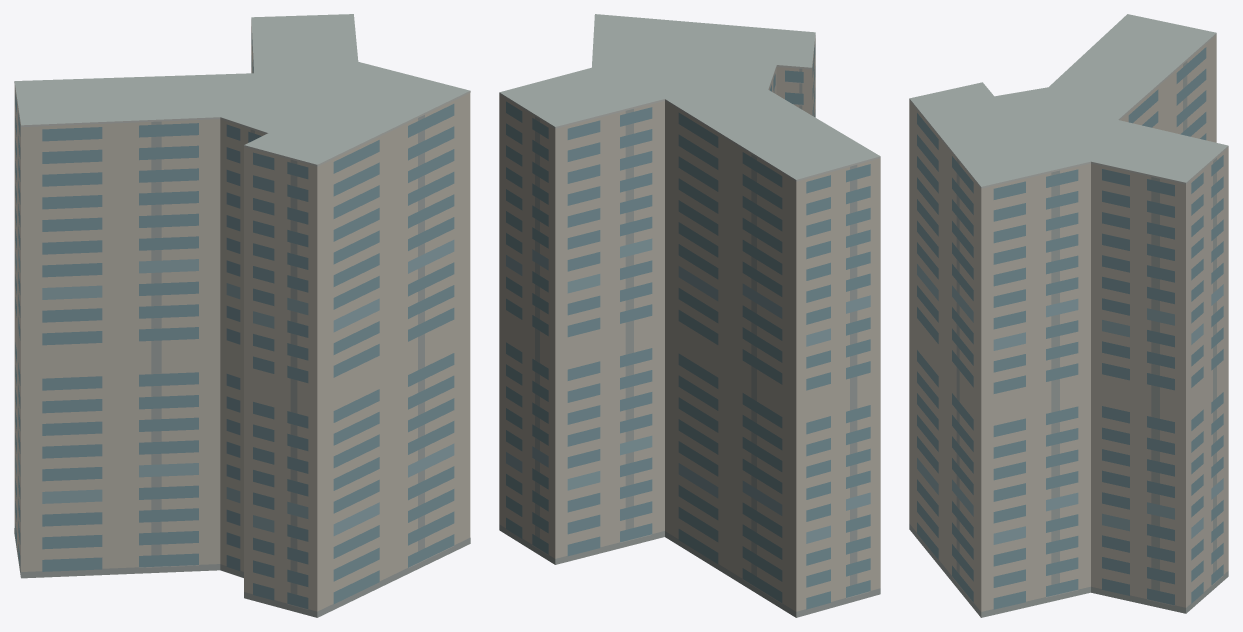
Rendered from residential-cbeb4d59-43a8-441d-832b-b6d330c9f868.glb.
3 renders of one model, left to right at view 1: azimuth 30°, elevation 25°; view 2: azimuth 150°, elevation 25°; view 3: azimuth 270°, elevation 25°, orthographic. The views are drawn at different scales.
Parts seen in each view (by area): view 1: residential-cbeb4d59-43a8-441d-832b-b6d330c9f868.tmp; view 2: residential-cbeb4d59-43a8-441d-832b-b6d330c9f868.tmp; view 3: residential-cbeb4d59-43a8-441d-832b-b6d330c9f868.tmp.
Boxes of the visible parts, x1=… form: residential-cbeb4d59-43a8-441d-832b-b6d330c9f868.tmp: x1=14, y1=14, x2=470, y2=617; residential-cbeb4d59-43a8-441d-832b-b6d330c9f868.tmp: x1=499, y1=14, x2=880, y2=617; residential-cbeb4d59-43a8-441d-832b-b6d330c9f868.tmp: x1=909, y1=14, x2=1228, y2=617.
Size of the model in its own units: 49.91 by 58 by 38.93.
